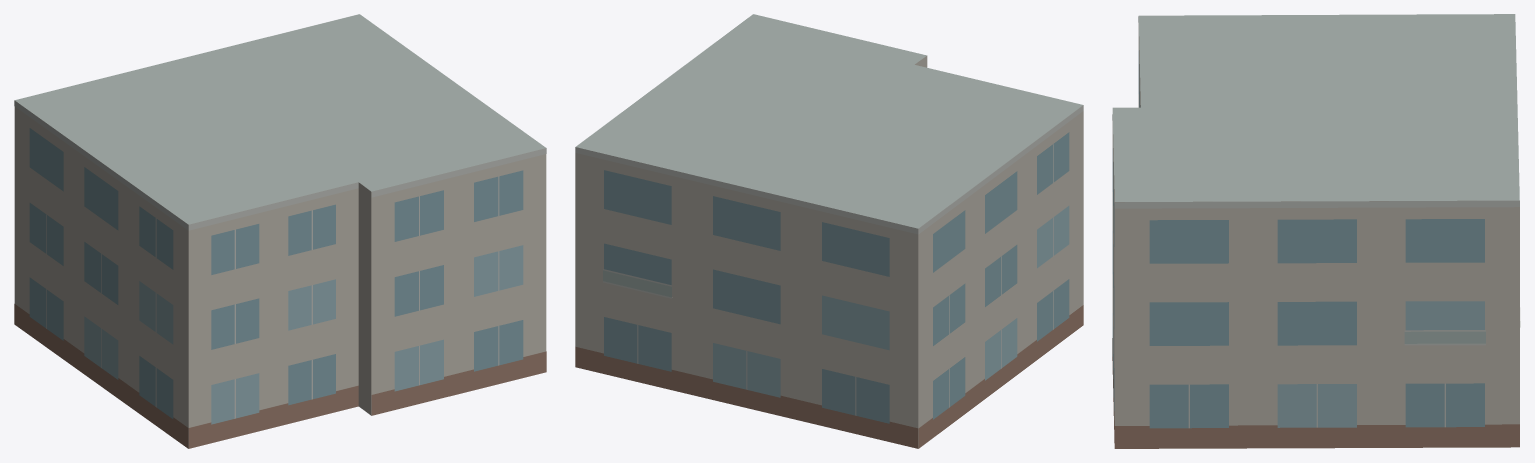
The model's file is survey-upis-32718345.glb.
3 views of the same model, side by side, from view 1: azimuth 30°, elevation 25°; view 2: azimuth 150°, elevation 25°; view 3: azimuth 270°, elevation 25° (orthographic). The views are drawn at different scales.
Parts seen in each view (by area): view 1: survey-upis-32718345.tmp; view 2: survey-upis-32718345.tmp; view 3: survey-upis-32718345.tmp.
Boxes of the visible parts, x1,y1,x2,y2 form: survey-upis-32718345.tmp: (14, 14, 546, 448); survey-upis-32718345.tmp: (575, 14, 1083, 448); survey-upis-32718345.tmp: (1112, 14, 1520, 448).
Size of the model in its own units: 14.96 by 9.15 by 13.72.
